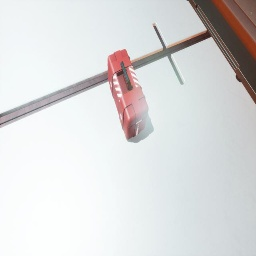FirstAidBox ,: (107, 49, 149, 140)
